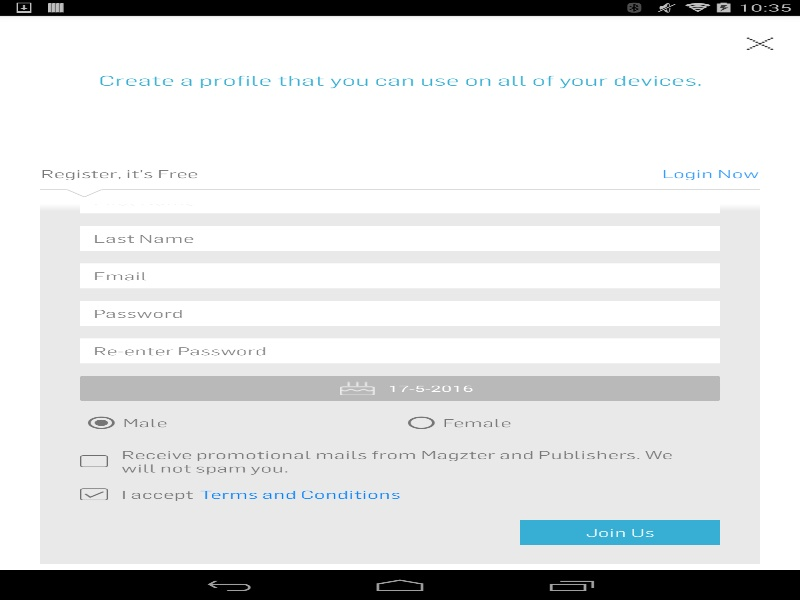Button: (520, 520, 720, 545), (40, 158, 197, 188), (662, 158, 760, 188)
Input: (80, 188, 720, 213), (80, 225, 720, 250), (80, 263, 720, 288), (80, 300, 720, 325), (80, 338, 720, 363)
